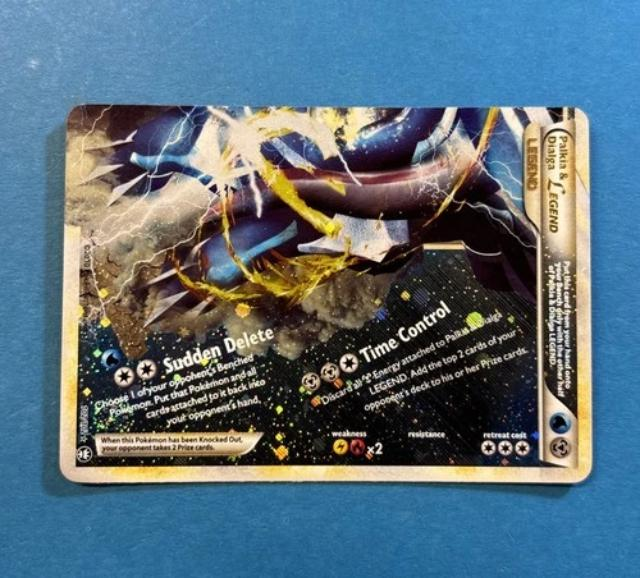Card: (54, 98, 598, 489)
Name: (541, 132, 573, 240)
